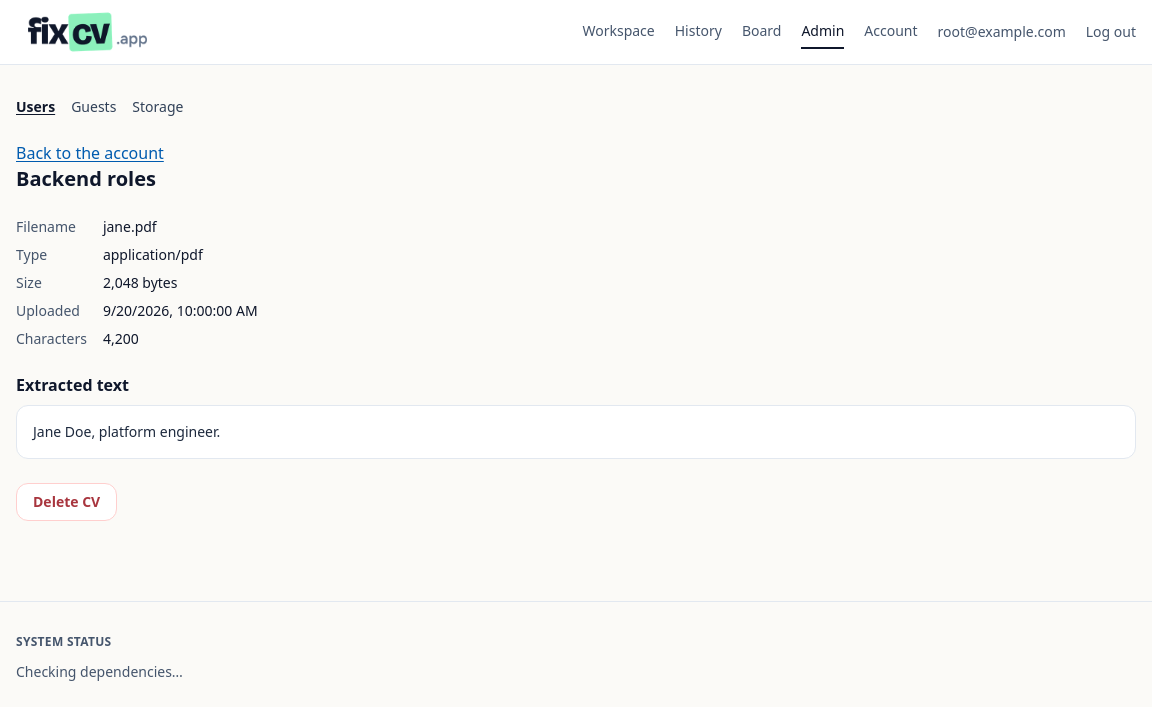
Test: deleting a saved CV — AC-29 › sends the admin DELETE, returns to the account with "Deleted …", and the list refetches
Click the button "Delete CV" at (67, 502), box [16, 483, 117, 521]
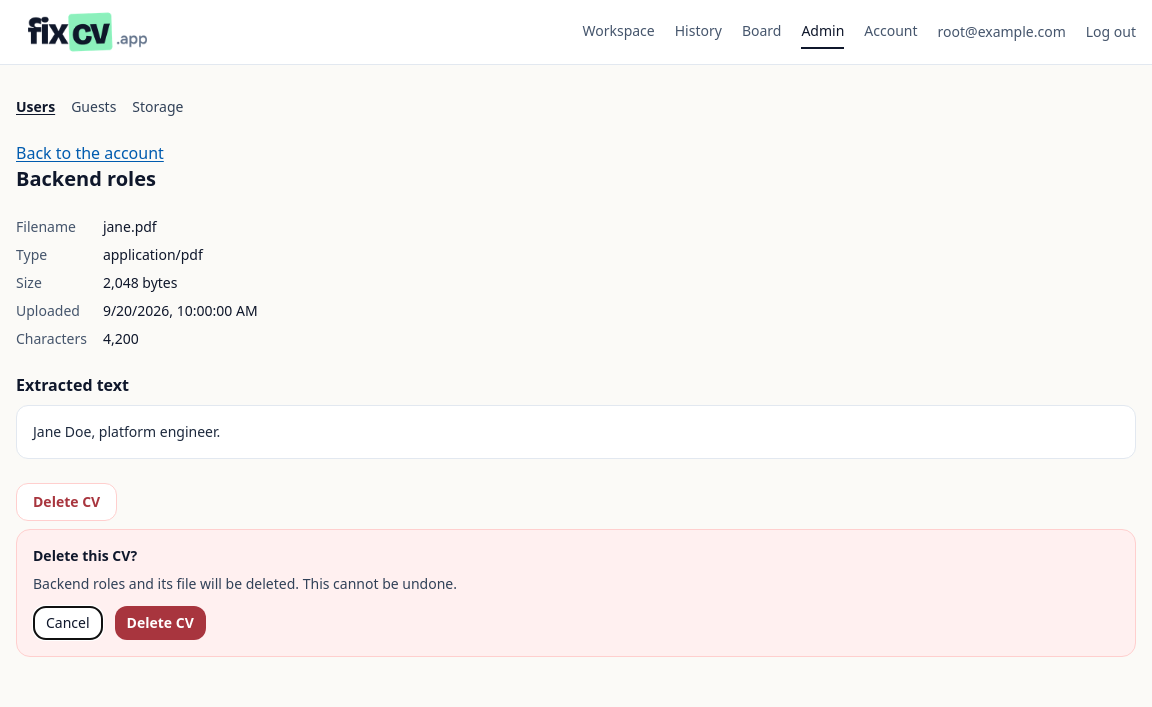
Click the button "Delete CV" below "Delete this CV?" at (160, 623), box [115, 606, 206, 640]
(page scrolled)
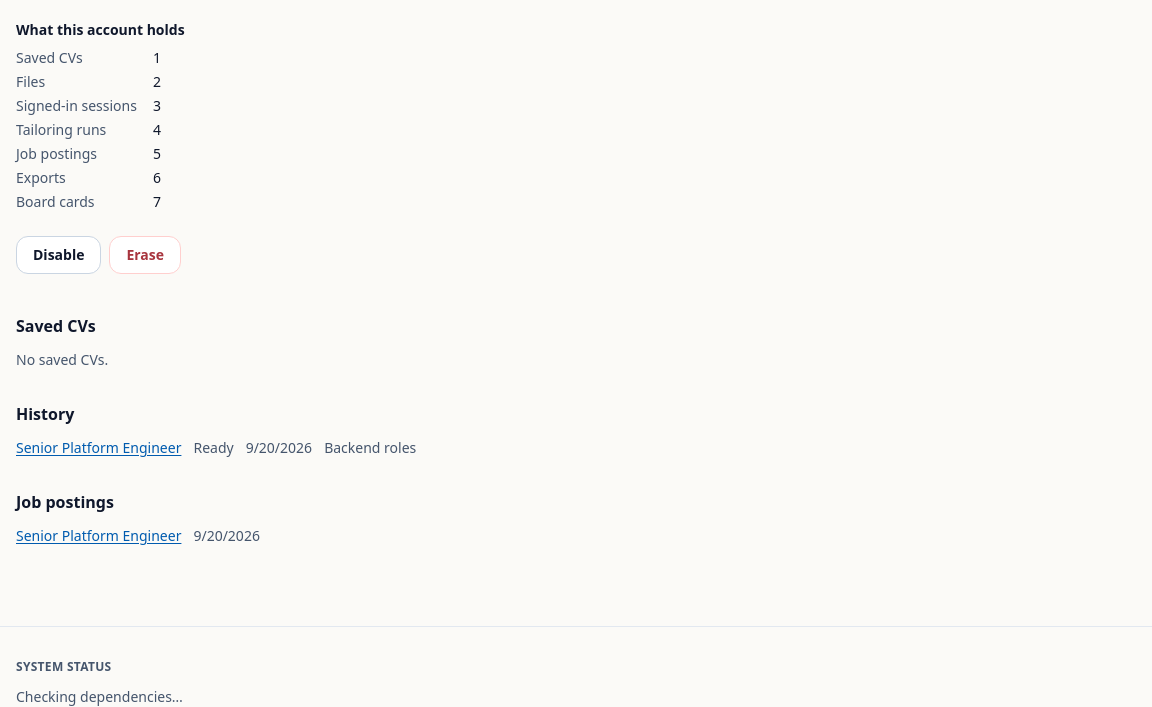
Now the text "No saved CVs." is shown, box [16, 350, 108, 369]
